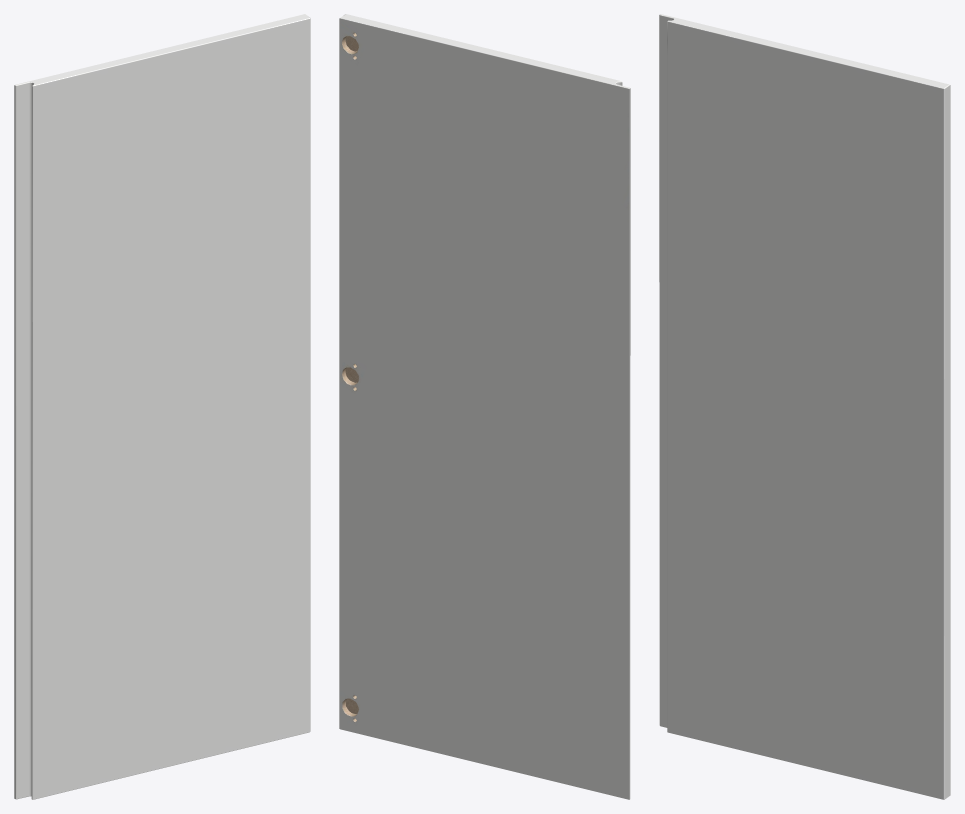
Rendered from voxtorp_drzwi_30648984.glb.
3 renders of one model, left to right at view 1: azimuth 30°, elevation 25°; view 2: azimuth 150°, elevation 25°; view 3: azimuth 330°, elevation 25°, orthographic.
Parts seen in each view (by area): view 1: voxtorp_drzwi_30648984; view 2: voxtorp_drzwi_30648984; view 3: voxtorp_drzwi_30648984.
Boxes of the visible parts, x1,y1,x2,y2 form: voxtorp_drzwi_30648984: (14, 14, 310, 799); voxtorp_drzwi_30648984: (339, 14, 630, 799); voxtorp_drzwi_30648984: (659, 14, 950, 799).
Size of the model in its own units: 0.596 by 1.4 by 0.0213.
Materials: 1 (1 with a texture image).
